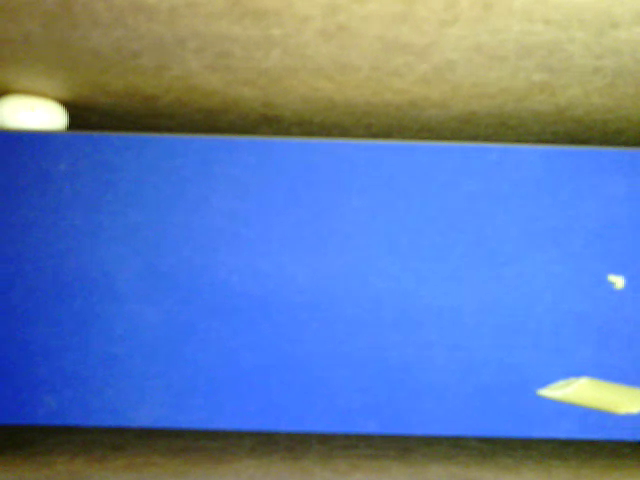penne: (536, 374, 639, 414)
